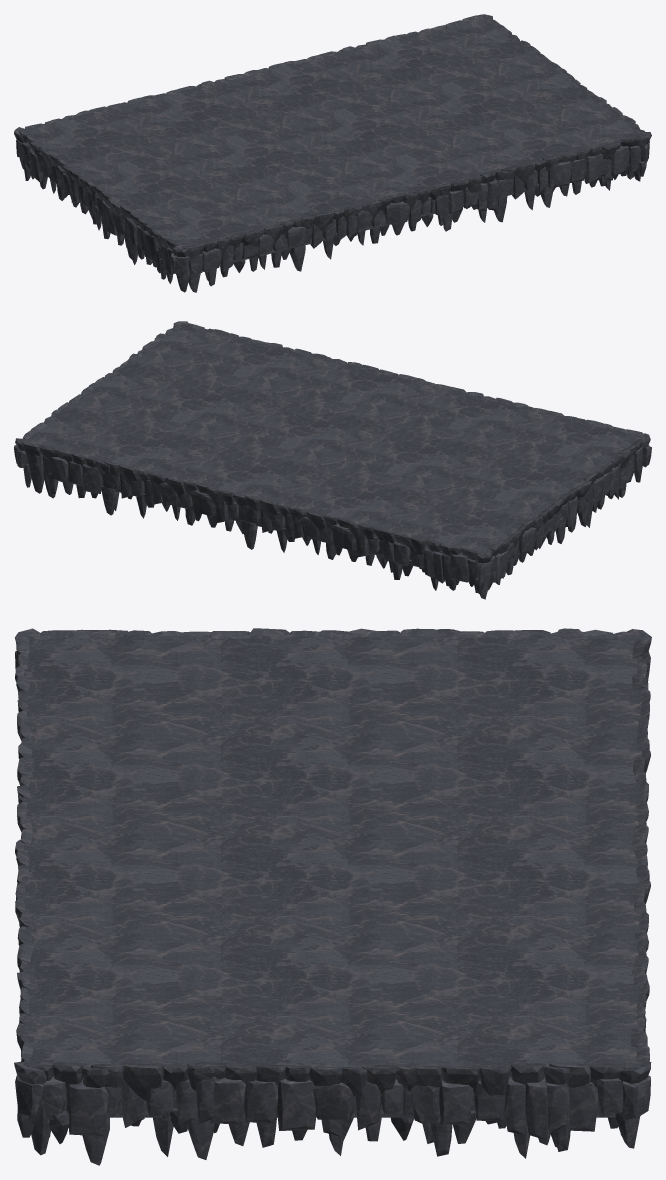
The model's file is SM_TableBase_T2.fbx.
The picture shows the model from 3 angles, top to bottom: view 1: azimuth 30°, elevation 25°; view 2: azimuth 150°, elevation 25°; view 3: azimuth 270°, elevation 25°; orthographic projection. The views are drawn at different scales.
Parts seen in each view (by area): view 1: SM_TableBase_T2; view 2: SM_TableBase_T2; view 3: SM_TableBase_T2.
Boxes of the visible parts, box(x1,y1,x2,y2) form: SM_TableBase_T2: box(14, 14, 651, 292); SM_TableBase_T2: box(14, 321, 651, 599); SM_TableBase_T2: box(14, 628, 651, 1165).
Size of the model in its own units: 1604 by 971 by 181.
Materials: 1 (1 with a texture image).
